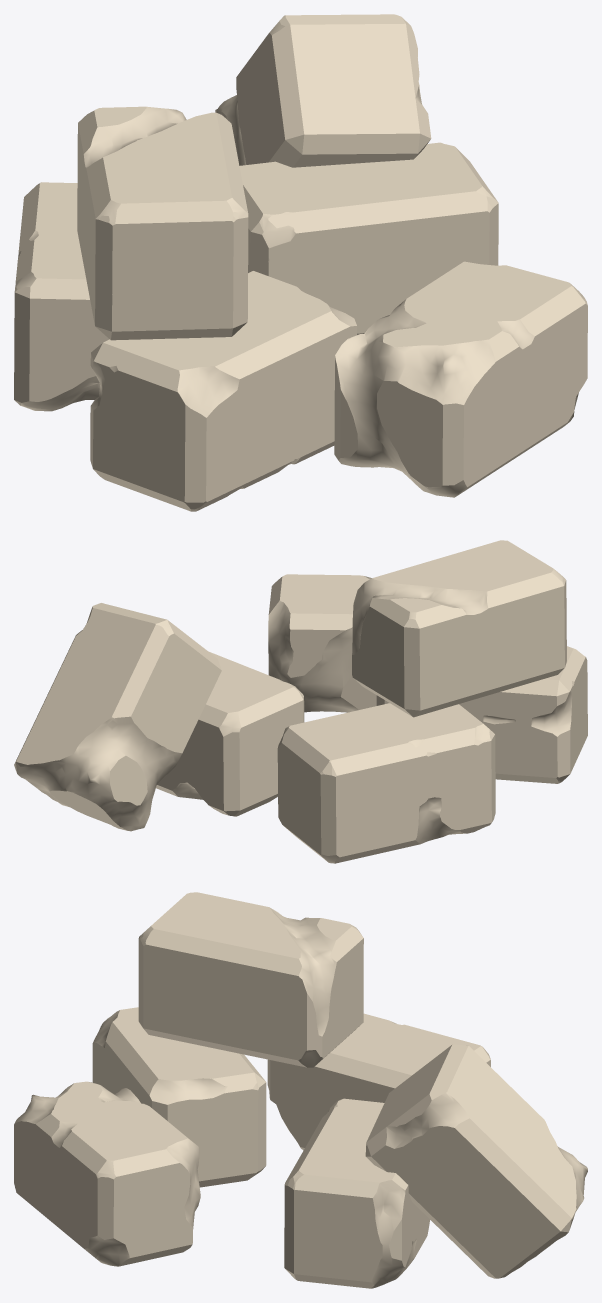
File: Brick_dmg_1.fbx
3 views of the same model, one above another, from view 1: azimuth 30°, elevation 25°; view 2: azimuth 150°, elevation 25°; view 3: azimuth 270°, elevation 25° (orthographic). The views are drawn at different scales.
Parts seen in each view (by area): view 1: bricks_dmg.002; view 2: bricks_dmg.002; view 3: bricks_dmg.002.
Part boxes in pixels (bbox=[...]): bricks_dmg.002: bbox=[14, 14, 587, 511]; bricks_dmg.002: bbox=[14, 540, 587, 863]; bricks_dmg.002: bbox=[14, 892, 587, 1288].
Size of the model in its own units: 54.96 by 29.67 by 69.94.
